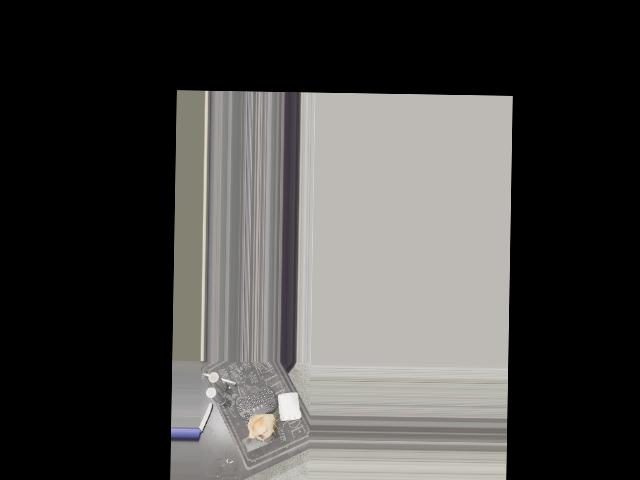onion: (246, 410, 276, 440)
